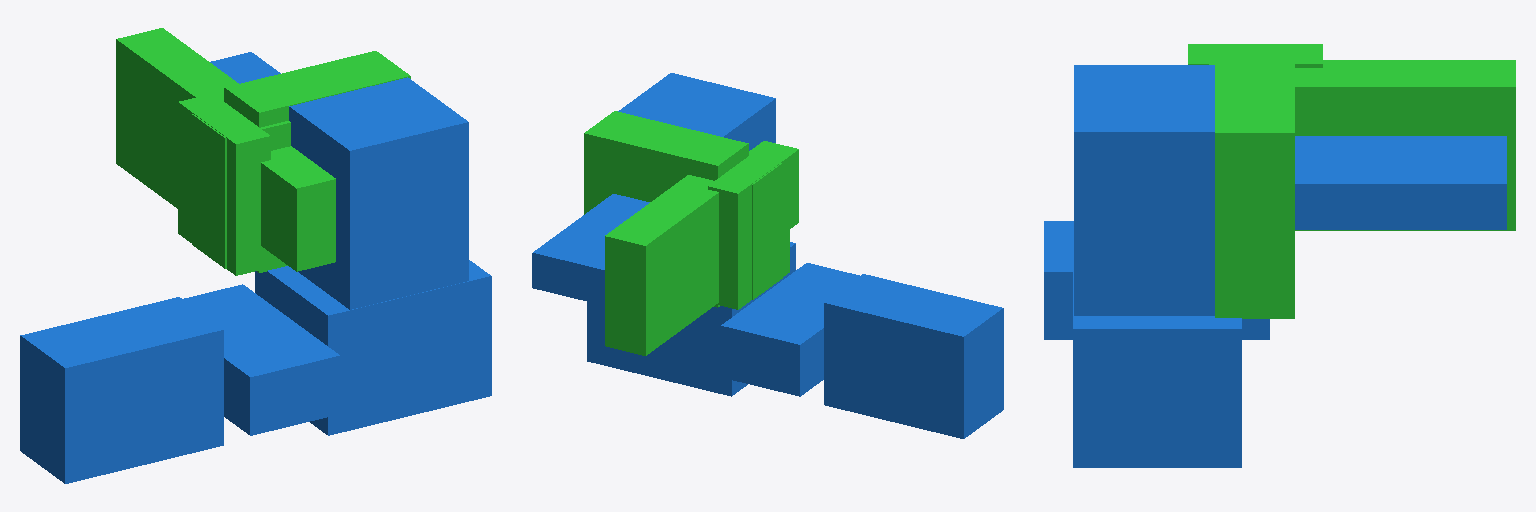
The robot description file, URDF, robot "robot":
<robot name = "robot">
    <link name="Link0">
        <inertial>
            <origin xyz="0 0 2" rpy="0 0 0"/>
            <mass value="0.16532830942459756" />
            <inertia ixx="100" ixy="0" ixz="0" iyy="100" iyz="0" izz="100" />
        </inertial>
        <visual>
            <origin xyz="0 0 2" rpy="0 0 0"/>
            <geometry>
                <box size="0.25103293265773463 0.7260891180021048 0.9070403290247293" />
            </geometry>
            <material name="Sensor">
                <color rgba="0.239 0.875 0.282 1.0"/>
            </material>
        </visual>
        <collision>
            <origin xyz="0 0 2" rpy="0 0 0"/>
            <geometry>
                <box size="0.25103293265773463 0.7260891180021048 0.9070403290247293" />
            </geometry>
        </collision>
    </link>
    <joint name="Link0_Link1" type="revolute">
       <parent link="Link0"/>
       <child  link="Link1"/>
       <origin rpy="0 0 0" xyz="0.12551646632886732 0 2" />
       <axis xyz="1 0 0"/>
       <limit effort="0.0" lower="-3.14159" upper="3.14159" velocity="0.0"/>
    </joint>
    <link name="Link1">
        <inertial>
            <origin xyz="0.5466616069597612 0 0" rpy="0 0 0"/>
            <mass value="0.5245599222014167" />
            <inertia ixx="100" ixy="0" ixz="0" iyy="100" iyz="0" izz="100" />
        </inertial>
        <visual>
            <origin xyz="0.5466616069597612 0 0" rpy="0 0 0"/>
            <geometry>
                <box size="1.0933232139195224 0.43373941187600173 1.106159237987372" />
            </geometry>
            <material name="Sensor">
                <color rgba="0.239 0.875 0.282 1.0"/>
            </material>
        </visual>
        <collision>
            <origin xyz="0.5466616069597612 0 0" rpy="0 0 0"/>
            <geometry>
                <box size="1.0933232139195224 0.43373941187600173 1.106159237987372" />
            </geometry>
        </collision>
    </link>
    <joint name="Link1_Link2" type="revolute">
       <parent link="Link1"/>
       <child  link="Link2"/>
       <origin rpy="0 0 0" xyz="0.5466616069597612 0.21686970593800087 0.0" />
       <axis xyz="0 1 0"/>
       <limit effort="0.0" lower="-3.14159" upper="3.14159" velocity="0.0"/>
    </joint>
    <link name="Link2">
        <inertial>
            <origin xyz="0.0 0.5711369646380862 0.0" rpy="0 0 0"/>
            <mass value="0.19489078725880413" />
            <inertia ixx="100" ixy="0" ixz="0" iyy="100" iyz="0" izz="100" />
        </inertial>
        <visual>
            <origin xyz="0.0 0.5711369646380862 0.0" rpy="0 0 0"/>
            <geometry>
                <box size="0.6143654798570279 1.1422739292761723 0.277711740122365" />
            </geometry>
            <material name="No Sensor">
                <color rgba="0.184 0.553 0.933 1.0"/>
            </material>
        </visual>
        <collision>
            <origin xyz="0.0 0.5711369646380862 0.0" rpy="0 0 0"/>
            <geometry>
                <box size="0.6143654798570279 1.1422739292761723 0.277711740122365" />
            </geometry>
        </collision>
    </link>
    <joint name="Link2_Link3" type="revolute">
       <parent link="Link2"/>
       <child  link="Link3"/>
       <origin rpy="0 0 0" xyz="-0.30718273992851397 0.5711369646380862 0.0" />
       <axis xyz="0 1 0"/>
       <limit effort="0.0" lower="-3.14159" upper="3.14159" velocity="0.0"/>
    </joint>
    <link name="Link3">
        <inertial>
            <origin xyz="-0.1676950695615853 0.0 0.0" rpy="0 0 0"/>
            <mass value="0.3549768114735983" />
            <inertia ixx="100" ixy="0" ixz="0" iyy="100" iyz="0" izz="100" />
        </inertial>
        <visual>
            <origin xyz="-0.1676950695615853 0.0 0.0" rpy="0 0 0"/>
            <geometry>
                <box size="0.3353901391231706 1.2314104657541125 0.8595019257734966" />
            </geometry>
            <material name="Sensor">
                <color rgba="0.239 0.875 0.282 1.0"/>
            </material>
        </visual>
        <collision>
            <origin xyz="-0.1676950695615853 0.0 0.0" rpy="0 0 0"/>
            <geometry>
                <box size="0.3353901391231706 1.2314104657541125 0.8595019257734966" />
            </geometry>
        </collision>
    </link>
    <joint name="Link3_Link4" type="revolute">
       <parent link="Link3"/>
       <child  link="Link4"/>
       <origin rpy="0 0 0" xyz="-0.1676950695615853 -0.6157052328770563 0.0" />
       <axis xyz="0 1 0"/>
       <limit effort="0.0" lower="-3.14159" upper="3.14159" velocity="0.0"/>
    </joint>
    <link name="Link4">
        <inertial>
            <origin xyz="0.0 -0.20960709234684527 0.0" rpy="0 0 0"/>
            <mass value="0.2518651895832021" />
            <inertia ixx="100" ixy="0" ixz="0" iyy="100" iyz="0" izz="100" />
        </inertial>
        <visual>
            <origin xyz="0.0 -0.20960709234684527 0.0" rpy="0 0 0"/>
            <geometry>
                <box size="0.6676323468141833 0.41921418469369054 0.89990115308969" />
            </geometry>
            <material name="Sensor">
                <color rgba="0.239 0.875 0.282 1.0"/>
            </material>
        </visual>
        <collision>
            <origin xyz="0.0 -0.20960709234684527 0.0" rpy="0 0 0"/>
            <geometry>
                <box size="0.6676323468141833 0.41921418469369054 0.89990115308969" />
            </geometry>
        </collision>
    </link>
    <joint name="Link4_Link5" type="revolute">
       <parent link="Link4"/>
       <child  link="Link5"/>
       <origin rpy="0 0 0" xyz="0.0 -0.41921418469369054 0.0" />
       <axis xyz="1 0 0"/>
       <limit effort="0.0" lower="-3.14159" upper="3.14159" velocity="0.0"/>
    </joint>
    <link name="Link5">
        <inertial>
            <origin xyz="0.0 -0.28080695673035233 0.0" rpy="0 0 0"/>
            <mass value="0.09242717835274168" />
            <inertia ixx="100" ixy="0" ixz="0" iyy="100" iyz="0" izz="100" />
        </inertial>
        <visual>
            <origin xyz="0.0 -0.28080695673035233 0.0" rpy="0 0 0"/>
            <geometry>
                <box size="0.2869750683593578 0.5616139134607047 0.5734791969890753" />
            </geometry>
            <material name="Sensor">
                <color rgba="0.239 0.875 0.282 1.0"/>
            </material>
        </visual>
        <collision>
            <origin xyz="0.0 -0.28080695673035233 0.0" rpy="0 0 0"/>
            <geometry>
                <box size="0.2869750683593578 0.5616139134607047 0.5734791969890753" />
            </geometry>
        </collision>
    </link>
    <joint name="Link5_Link6" type="revolute">
       <parent link="Link5"/>
       <child  link="Link6"/>
       <origin rpy="0 0 0" xyz="0.1434875341796789 -0.28080695673035233 0.0" />
       <axis xyz="0 0 1"/>
       <limit effort="0.0" lower="-3.14159" upper="3.14159" velocity="0.0"/>
    </joint>
    <link name="Link6">
        <inertial>
            <origin xyz="0.4287209467572768 0.0 0.0" rpy="0 0 0"/>
            <mass value="0.8466040354946436" />
            <inertia ixx="100" ixy="0" ixz="0" iyy="100" iyz="0" izz="100" />
        </inertial>
        <visual>
            <origin xyz="0.4287209467572768 0.0 0.0" rpy="0 0 0"/>
            <geometry>
                <box size="0.8574418935145536 0.9008312566756971 1.0960545992364694" />
            </geometry>
            <material name="No Sensor">
                <color rgba="0.184 0.553 0.933 1.0"/>
            </material>
        </visual>
        <collision>
            <origin xyz="0.4287209467572768 0.0 0.0" rpy="0 0 0"/>
            <geometry>
                <box size="0.8574418935145536 0.9008312566756971 1.0960545992364694" />
            </geometry>
        </collision>
    </link>
    <joint name="Link6_Link7" type="revolute">
       <parent link="Link6"/>
       <child  link="Link7"/>
       <origin rpy="0 0 0" xyz="0.4287209467572768 0.0 -0.5480272996182347" />
       <axis xyz="0 1 0"/>
       <limit effort="0.0" lower="-3.14159" upper="3.14159" velocity="0.0"/>
    </joint>
    <link name="Link7">
        <inertial>
            <origin xyz="0.0 0.0 -0.4140869592042691" rpy="0 0 0"/>
            <mass value="0.8879164544716504" />
            <inertia ixx="100" ixy="0" ixz="0" iyy="100" iyz="0" izz="100" />
        </inertial>
        <visual>
            <origin xyz="0.0 0.0 -0.4140869592042691" rpy="0 0 0"/>
            <geometry>
                <box size="1.1775809425975434 0.9104577276110997 0.8281739184085382" />
            </geometry>
            <material name="No Sensor">
                <color rgba="0.184 0.553 0.933 1.0"/>
            </material>
        </visual>
        <collision>
            <origin xyz="0.0 0.0 -0.4140869592042691" rpy="0 0 0"/>
            <geometry>
                <box size="1.1775809425975434 0.9104577276110997 0.8281739184085382" />
            </geometry>
        </collision>
    </link>
    <joint name="Link7_Link8" type="revolute">
       <parent link="Link7"/>
       <child  link="Link8"/>
       <origin rpy="0 0 0" xyz="-0.5887904712987717 0.0 -0.4140869592042691" />
       <axis xyz="0 1 0"/>
       <limit effort="0.0" lower="-3.14159" upper="3.14159" velocity="0.0"/>
    </joint>
    <link name="Link8">
        <inertial>
            <origin xyz="-0.3243577718145042 0.0 0.0" rpy="0 0 0"/>
            <mass value="0.31891360077379155" />
            <inertia ixx="100" ixy="0" ixz="0" iyy="100" iyz="0" izz="100" />
        </inertial>
        <visual>
            <origin xyz="-0.3243577718145042 0.0 0.0" rpy="0 0 0"/>
            <geometry>
                <box size="0.6487155436290084 1.216612492642142 0.4040791718323574" />
            </geometry>
            <material name="No Sensor">
                <color rgba="0.184 0.553 0.933 1.0"/>
            </material>
        </visual>
        <collision>
            <origin xyz="-0.3243577718145042 0.0 0.0" rpy="0 0 0"/>
            <geometry>
                <box size="0.6487155436290084 1.216612492642142 0.4040791718323574" />
            </geometry>
        </collision>
    </link>
    <joint name="Link8_Link9" type="revolute">
       <parent link="Link8"/>
       <child  link="Link9"/>
       <origin rpy="0 0 0" xyz="-0.6487155436290084 0.0 0.0" />
       <axis xyz="0 0 1"/>
       <limit effort="0.0" lower="-3.14159" upper="3.14159" velocity="0.0"/>
    </joint>
    <link name="Link9">
        <inertial>
            <origin xyz="-0.5725434043243243 0.0 0.0" rpy="0 0 0"/>
            <mass value="0.5129563089232644" />
            <inertia ixx="100" ixy="0" ixz="0" iyy="100" iyz="0" izz="100" />
        </inertial>
        <visual>
            <origin xyz="-0.5725434043243243 0.0 0.0" rpy="0 0 0"/>
            <geometry>
                <box size="1.1450868086486485 0.5610130678848415 0.798489089666104" />
            </geometry>
            <material name="No Sensor">
                <color rgba="0.184 0.553 0.933 1.0"/>
            </material>
        </visual>
        <collision>
            <origin xyz="-0.5725434043243243 0.0 0.0" rpy="0 0 0"/>
            <geometry>
                <box size="1.1450868086486485 0.5610130678848415 0.798489089666104" />
            </geometry>
        </collision>
    </link>
</robot>

--- Facts derived from the render (not from the file) ---
The picture shows the robot from 3 angles, left to right: view 1: azimuth 30°, elevation 25°; view 2: azimuth 150°, elevation 25°; view 3: azimuth 270°, elevation 25°; orthographic projection.
Robot: robot — 10 links, 9 joints (9 revolute); root link Link0; default pose: every joint at zero.
Links seen in each view (by area): view 1: Link6, Link9, Link7, Link8, Link3, Link0, Link5, Link1, Link4, Link2; view 2: Link9, Link3, Link8, Link1, Link7, Link6, Link0, Link2, Link4, Link5; view 3: Link6, Link7, Link1, Link2, Link3, Link8, Link0.
Boxes of the visible links, x1,y1,x2,y2 form: Link6: [289, 77, 468, 309]; Link9: [20, 297, 223, 483]; Link7: [255, 260, 491, 435]; Link8: [183, 284, 339, 435]; Link3: [116, 28, 238, 208]; Link0: [178, 93, 270, 275]; Link5: [261, 146, 335, 271]; Link1: [224, 51, 410, 272]; Link4: [192, 114, 290, 268]; Link2: [210, 52, 280, 83]; Link9: [824, 274, 1003, 438]; Link3: [605, 175, 718, 355]; Link8: [721, 263, 859, 396]; Link1: [584, 111, 748, 307]; Link7: [587, 242, 795, 396]; Link6: [618, 73, 775, 150]; Link0: [708, 149, 789, 309]; Link2: [532, 194, 649, 305]; Link4: [749, 155, 782, 299]; Link5: [749, 141, 798, 228]; Link6: [1074, 65, 1214, 315]; Link7: [1073, 237, 1241, 467]; Link1: [1215, 47, 1294, 318]; Link2: [1295, 136, 1506, 229]; Link3: [1295, 60, 1515, 230]; Link8: [1044, 221, 1269, 339]; Link0: [1188, 44, 1322, 67].
Bounding box of the posed robot: 2.97 × 2.54 × 1.93 m (x, y, z).
Geometry: primitives only (box / cylinder / sphere), no mesh files.